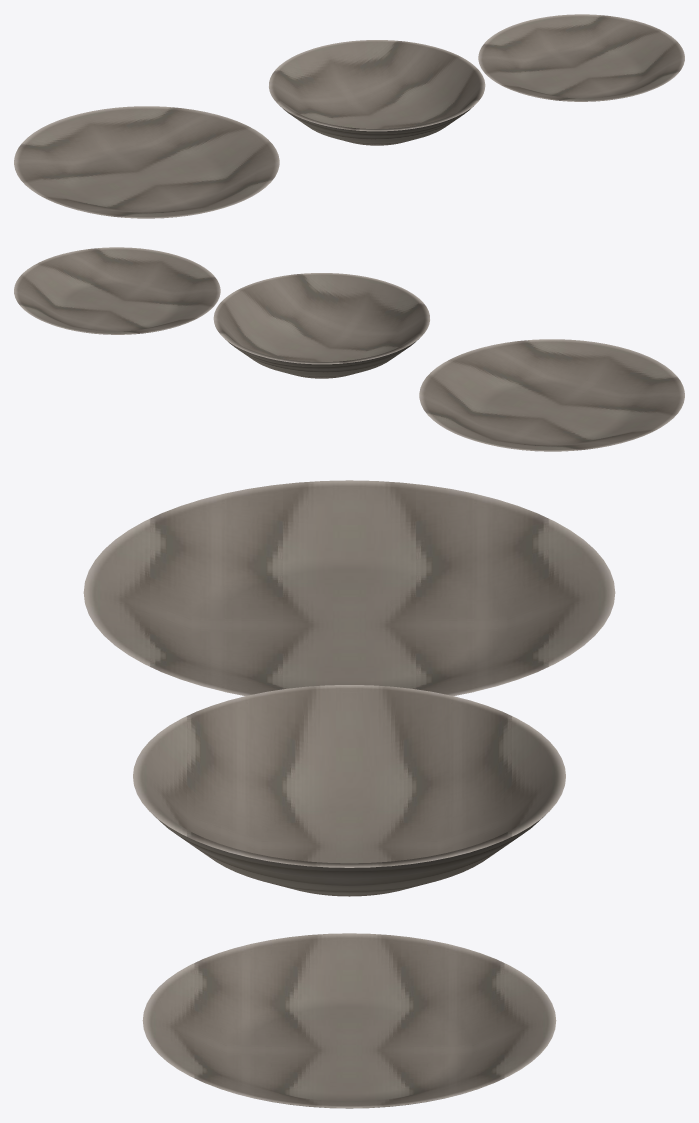
The model's file is HOJ-03.glb.
3 renders of one model, top to bottom at view 1: azimuth 30°, elevation 25°; view 2: azimuth 150°, elevation 25°; view 3: azimuth 270°, elevation 25°, orthographic. The views are drawn at different scales.
Bounding box in the file's own units: 0.75 × 0.045 × 0.27.
Materials: 6 (6 with a texture image).
